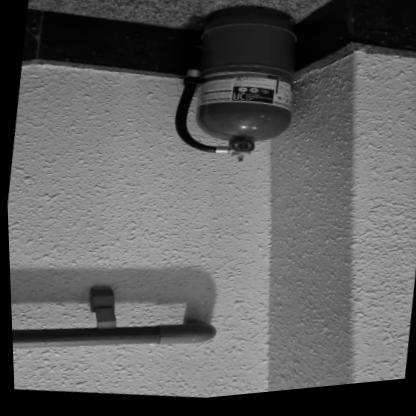FE: (166, 0, 305, 169)
